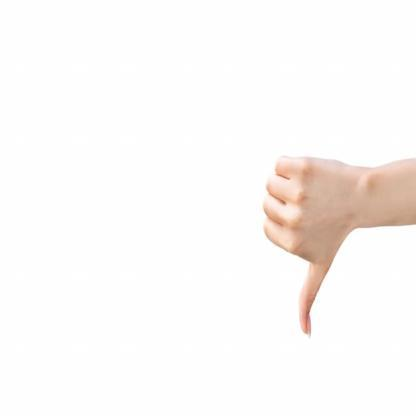thumb_down: (261, 150, 351, 340)
